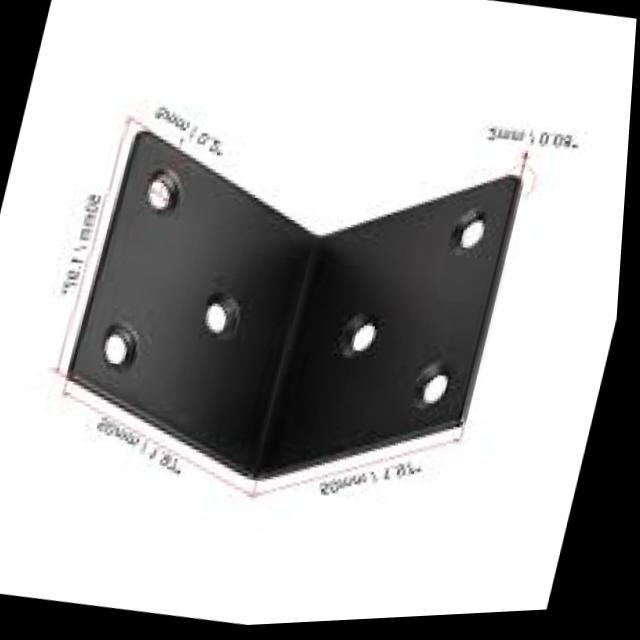holes: (338, 315, 385, 368), (412, 363, 457, 418), (98, 325, 145, 376), (143, 171, 186, 218), (201, 301, 241, 342)
